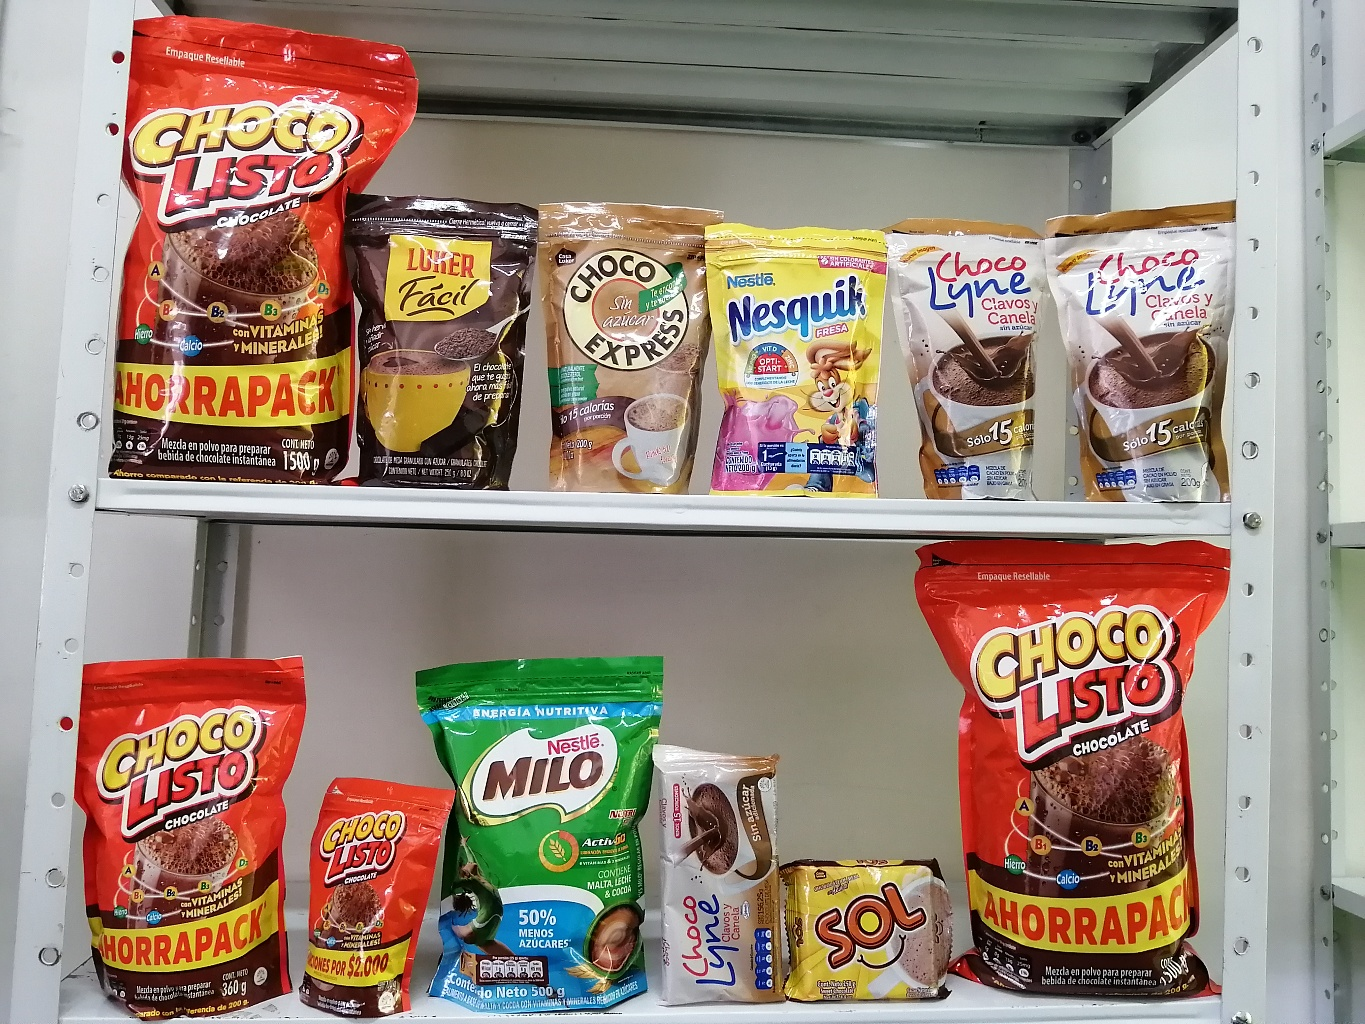COL0170103DYP1,500: (119, 13, 414, 485)
COL0170103DYP36000: (62, 646, 305, 1024)
COL0170205DYP50000: (415, 641, 666, 1016)
COL0170305DYP20000: (697, 213, 896, 501)
